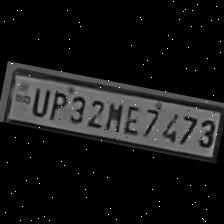2: (83, 93, 107, 128)
3: (193, 113, 219, 150), (64, 90, 90, 124)
4: (156, 107, 182, 143)
7: (137, 102, 161, 138), (176, 110, 200, 145)
E: (119, 100, 144, 136)
M: (101, 96, 126, 132)
P: (45, 86, 69, 121)
U: (26, 82, 52, 118)
